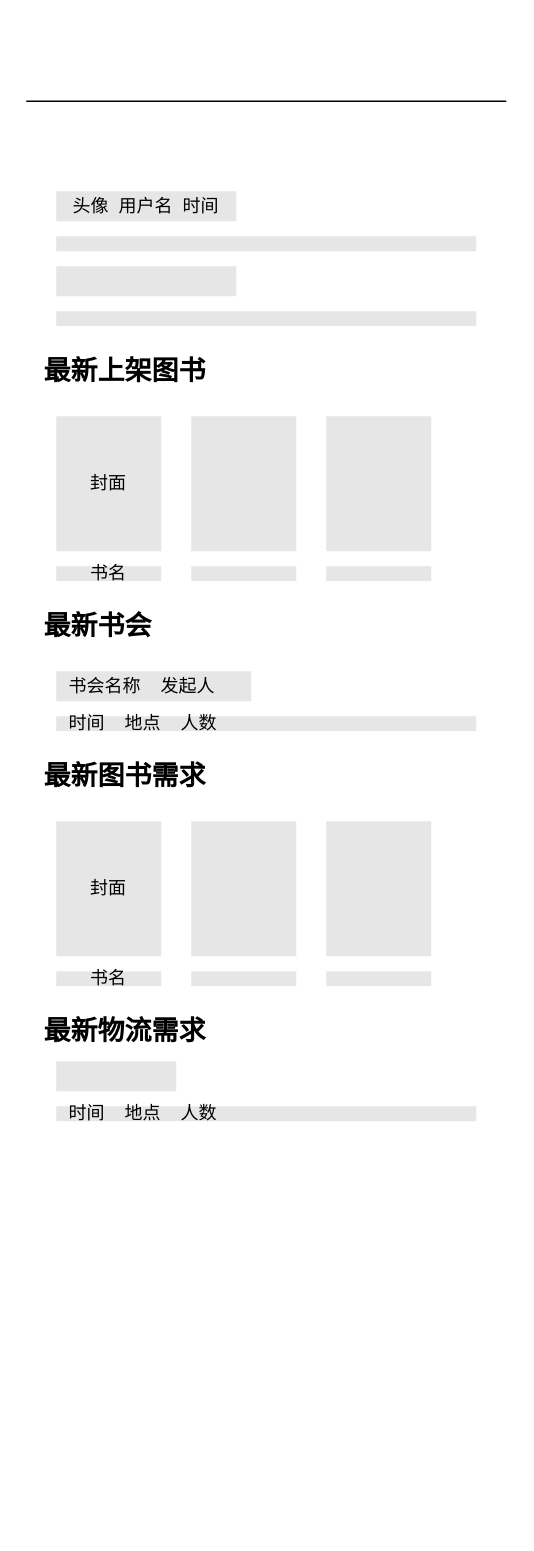
Image size: 534x1551. Some labels were removed from this diagram. The centre of each missing label's shape, as x and y in pixels:
"发起人" goes at point 116,1075.
"最新动态" goes at point 266,145.
"首页" goes at point 266,63.
